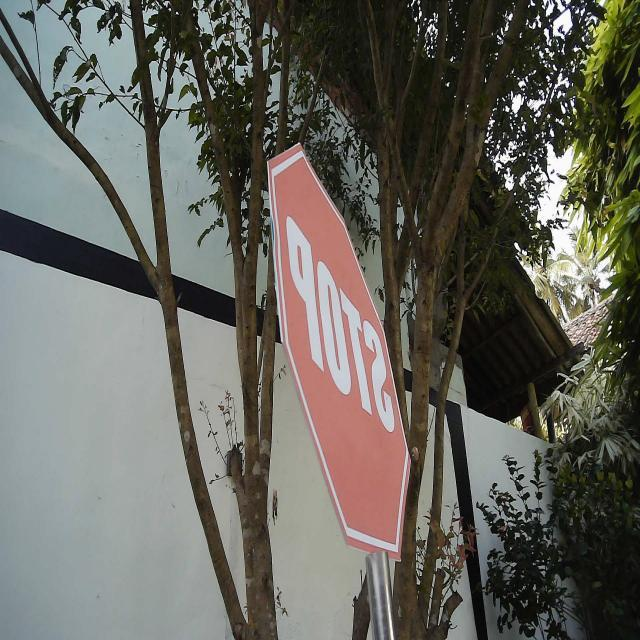stop: (264, 135, 414, 564)
